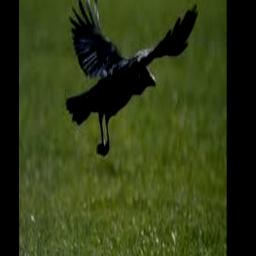Crow: (65, 0, 197, 156)
